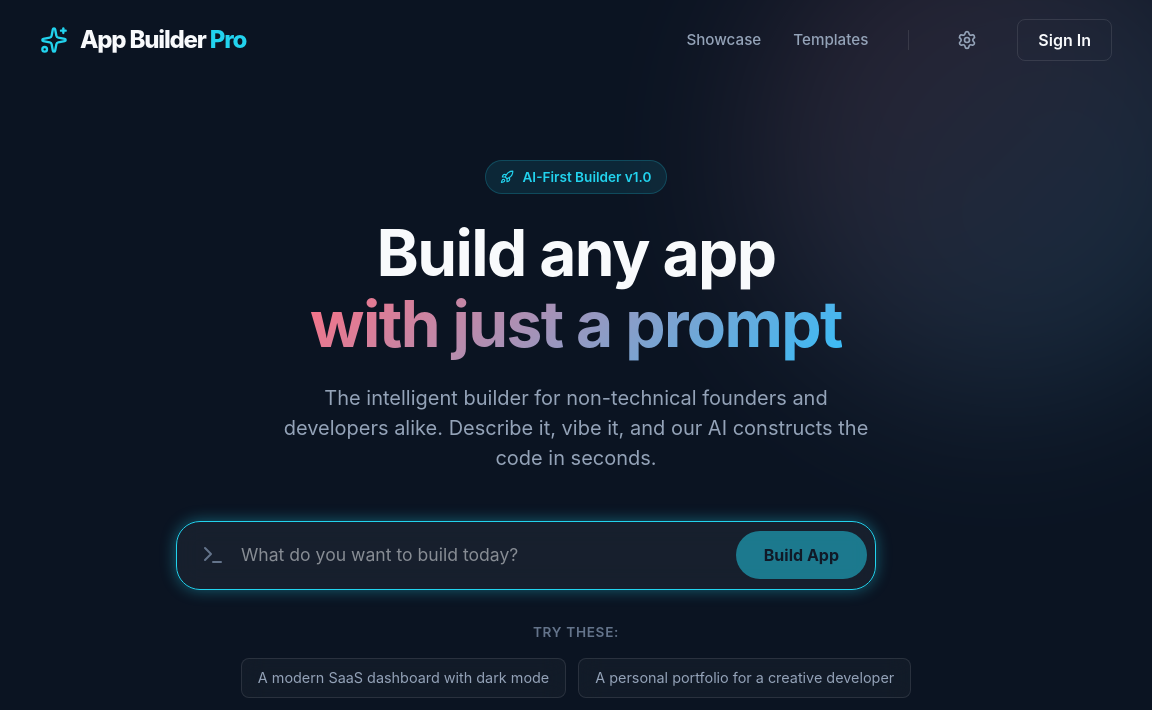
Test: LandingPage › Interactions › fills prompt when example chip is clicked
The width and height of the screenshot is (1152, 710).
Note: User clicks example chip
Click the button "A modern SaaS dashboard with dark mode": coordinates (404, 678) [241,658,566,698]
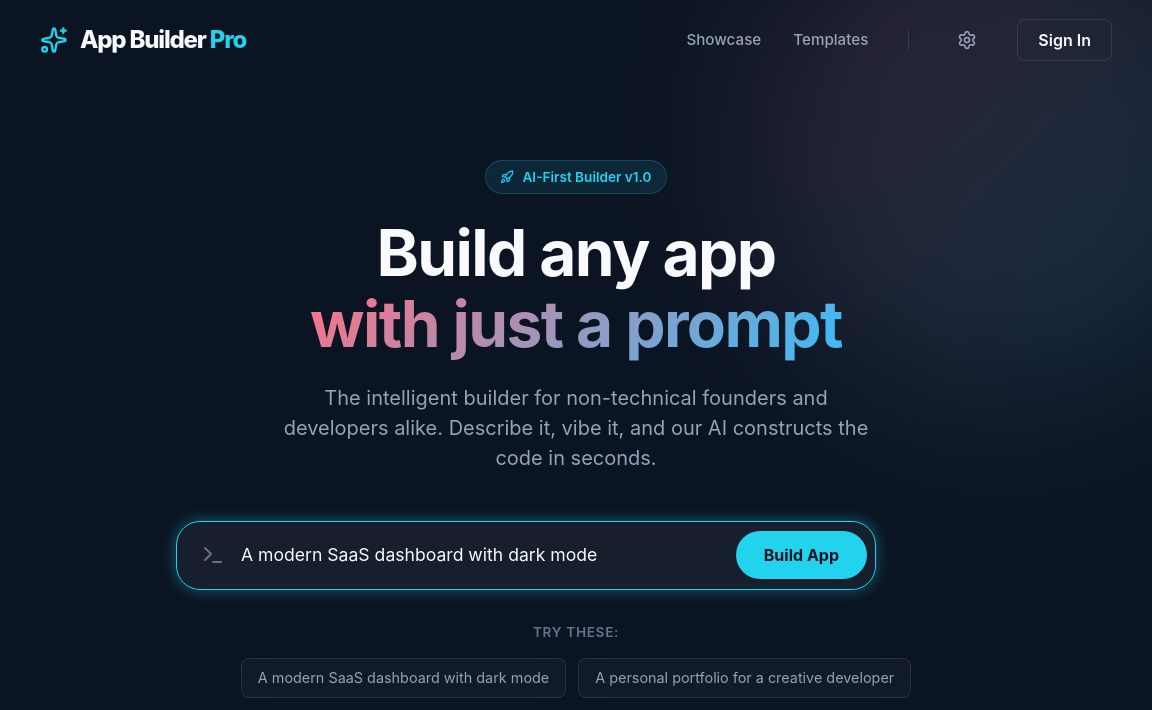
Result: the field with placeholder "What do you want to build today?" holds "A modern SaaS dashboard with dark mode" at [241,530,720,581]
